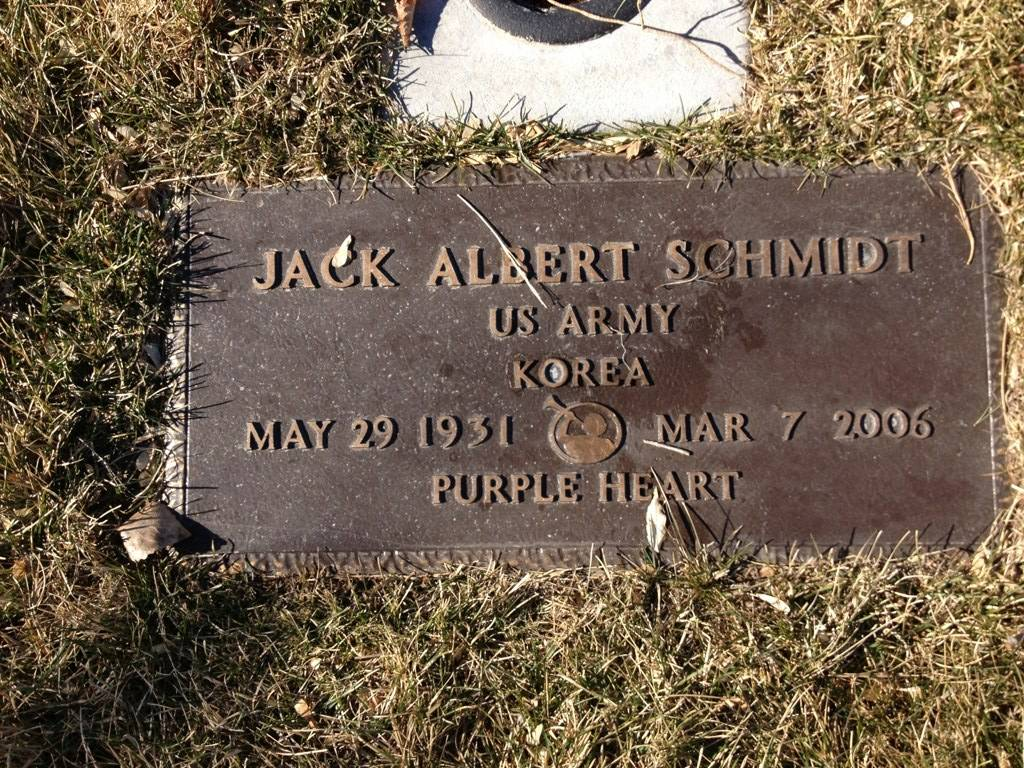flat: (158, 158, 1014, 558)
